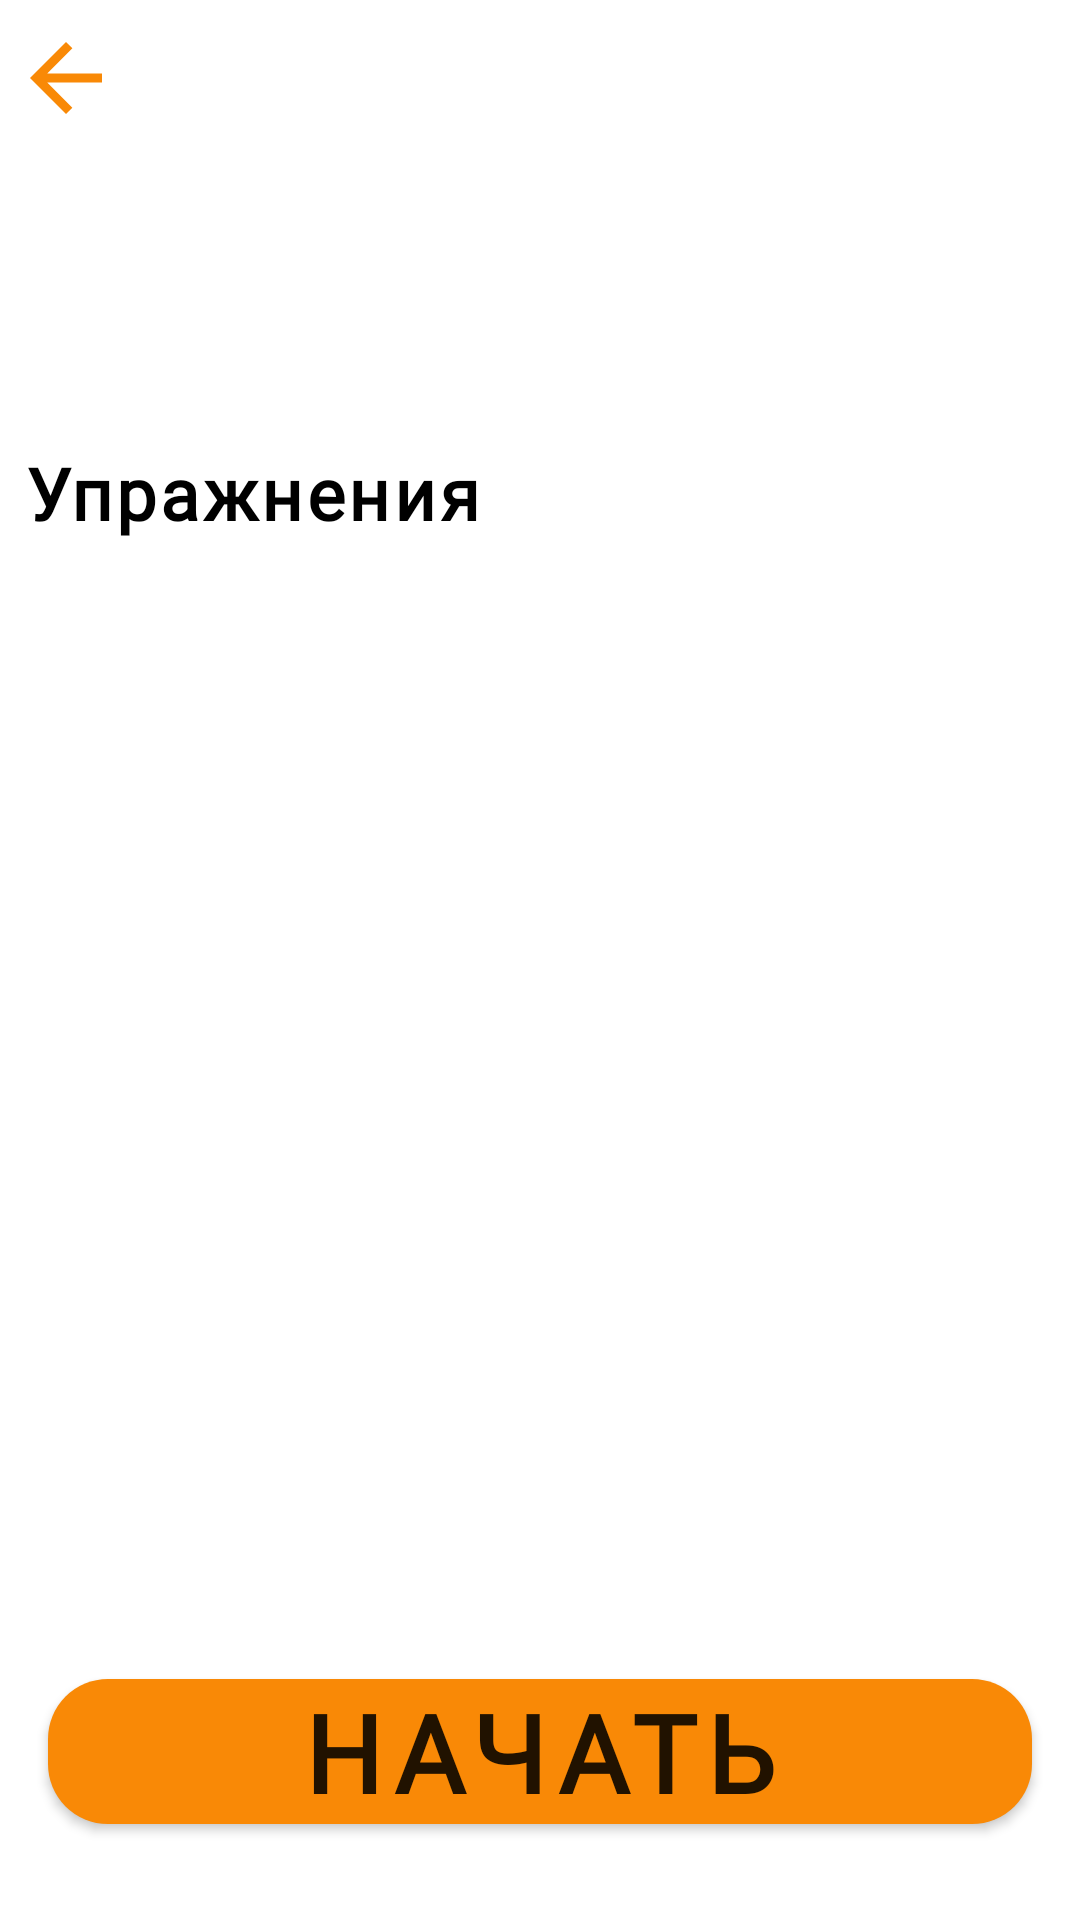

Locate icon controls on the screen. Image size 1080*1920, boxes as (x1, y1, x2, y2).
arrow back: (30, 42, 102, 114)
